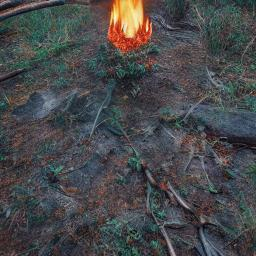Small fire: (103, 1, 154, 55)
